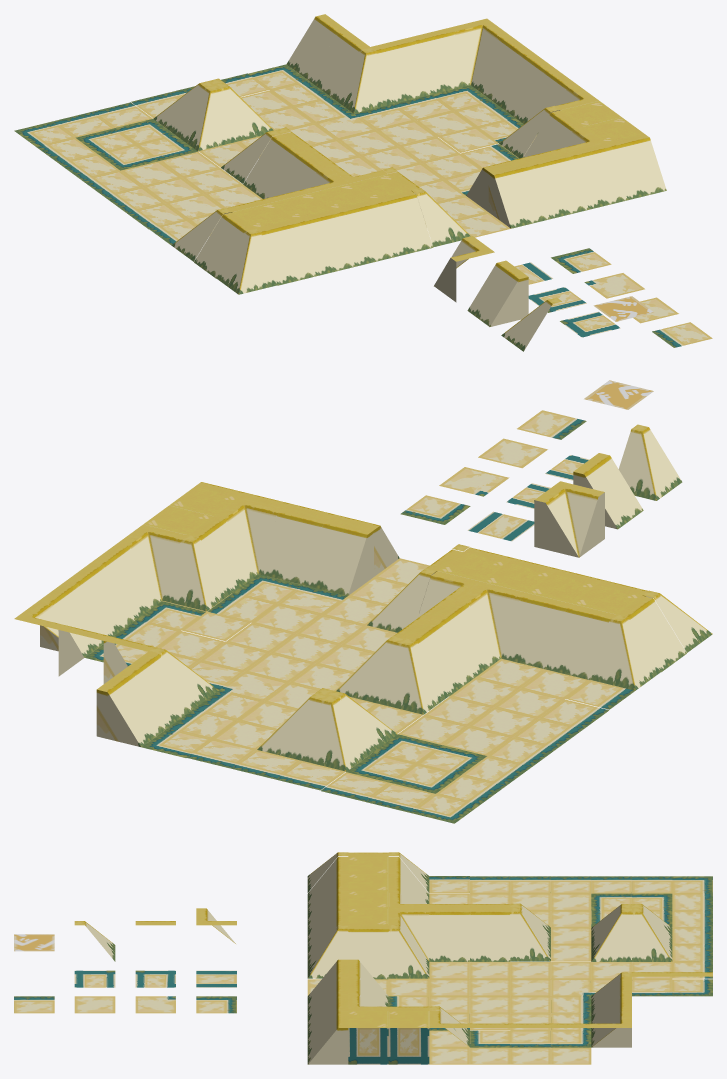
Rendered from scene_OsFnqSn8Md.glb.
3 renders of one model, top to bottom at view 1: azimuth 30°, elevation 25°; view 2: azimuth 150°, elevation 25°; view 3: azimuth 270°, elevation 25°, orthographic. The views are drawn at different scales.
Visible parts, largest first — view 1: example_Edge23, Edge, example_Edge, example_Edge27, example_Edge26, example_Edge25, example_Edge15, example_Edge20, example_Edge13, example_Edge9, example_Edge21, example_OutCorner23 (+85 smaller); view 2: InCorner, example_Edge8, example_Edge12, example_Edge6, example_Edge18, example_Edge19, example_OutCorner9, example_OutCorner1, example_OutCorner22, example_OutCorner4, OutCorner, Edge (+85 smaller); view 3: example_SolidWall3, example_SolidWall4, example_Edge14, example_Edge16, example_Edge1, example_OutCorner7, example_Edge27, example_OutCorner8, example_OutCorner6, example_OutCorner5, example_OutCorner2, example_InCorner1 (+87 smaller).
Boxes of the visible parts, box(x1,y1,x2,y2) form: example_Edge23: box(488, 162, 549, 228); Edge: box(467, 260, 528, 326); example_Edge: box(409, 28, 470, 94); example_Edge27: box(605, 133, 666, 200); example_Edge26: box(567, 143, 627, 209); example_Edge25: box(528, 152, 588, 219); example_Edge15: box(333, 200, 393, 266); example_Edge20: box(294, 209, 355, 275); example_Edge13: box(372, 190, 433, 257); example_Edge9: box(371, 37, 431, 103); example_Edge21: box(256, 219, 316, 285); example_OutCorner23: box(216, 228, 277, 294); InCorner: box(534, 481, 604, 557); example_Edge8: box(303, 519, 373, 595); example_Edge12: box(96, 670, 166, 747); example_Edge6: box(258, 508, 328, 584); example_Edge18: box(501, 593, 571, 669); example_Edge19: box(546, 604, 615, 679); example_OutCorner9: box(379, 638, 449, 714); example_OutCorner1: box(162, 535, 232, 611); example_OutCorner22: box(591, 614, 660, 690); example_OutCorner4: box(301, 695, 371, 771); OutCorner: box(618, 424, 682, 500); Edge: box(573, 453, 643, 529); example_SolidWall3: box(388, 1011, 429, 1064); example_SolidWall4: box(348, 1011, 388, 1064); example_Edge14: box(429, 908, 469, 961); example_Edge16: box(470, 908, 510, 961); example_Edge1: box(348, 925, 388, 979); example_OutCorner7: box(388, 925, 429, 978); example_Edge27: box(307, 1011, 348, 1064); example_OutCorner8: box(510, 907, 550, 961); example_OutCorner6: box(591, 908, 631, 961); example_OutCorner5: box(632, 908, 672, 961); example_OutCorner2: box(307, 925, 348, 978); example_InCorner1: box(388, 908, 429, 960).
Bounding box in the file's own units: 0.22 × 0.0202 × 0.345.
Materials: 1 (1 with a texture image).
